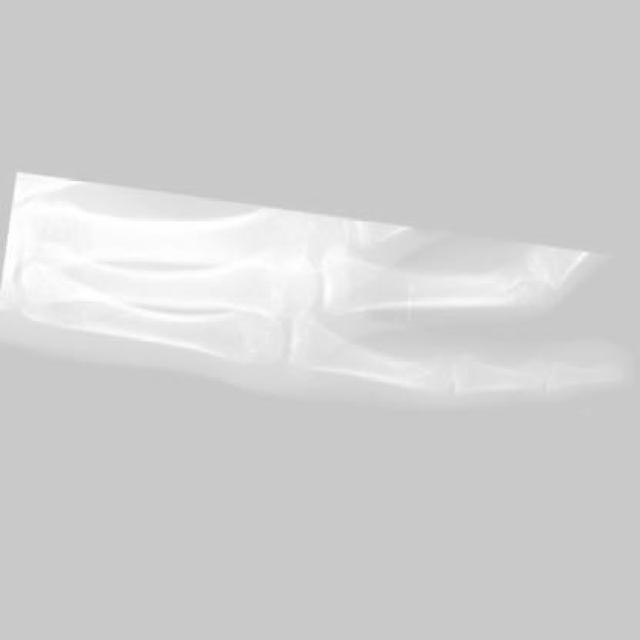Fracture: (285, 319, 338, 388)
